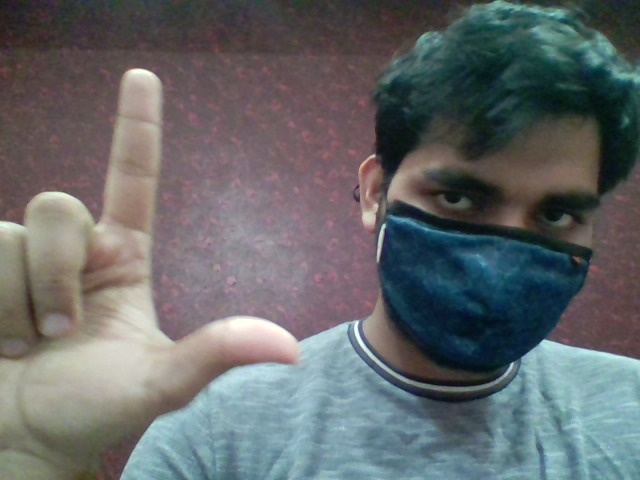l: (4, 61, 310, 442)
